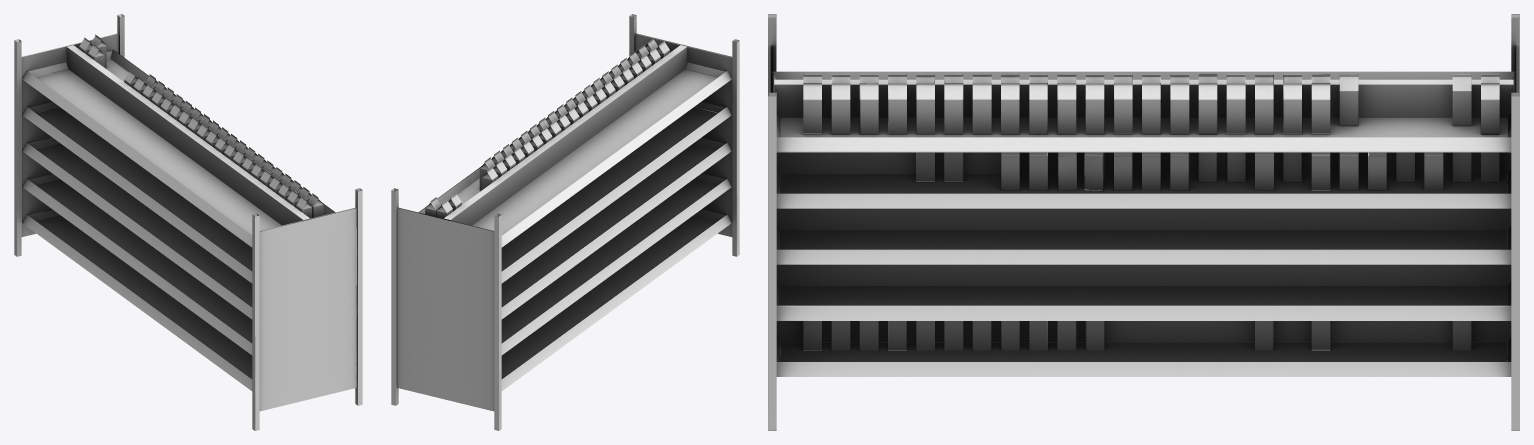
Rendered from rack_A.fbx.
3 views of the same model, side by side, from view 1: azimuth 30°, elevation 25°; view 2: azimuth 150°, elevation 25°; view 3: azimuth 270°, elevation 25° (orthographic). The views are drawn at different scales.
Parts seen in each view (by area): view 1: rack; view 2: rack; view 3: rack.
Part boxes in pixels (x1,y1,x2,y2): rack: (14,14,362,430); rack: (391,14,739,430); rack: (768,14,1519,430).
Bounding box in the file's own units: 103 × 196 × 399.
1 material, 1 textured.
